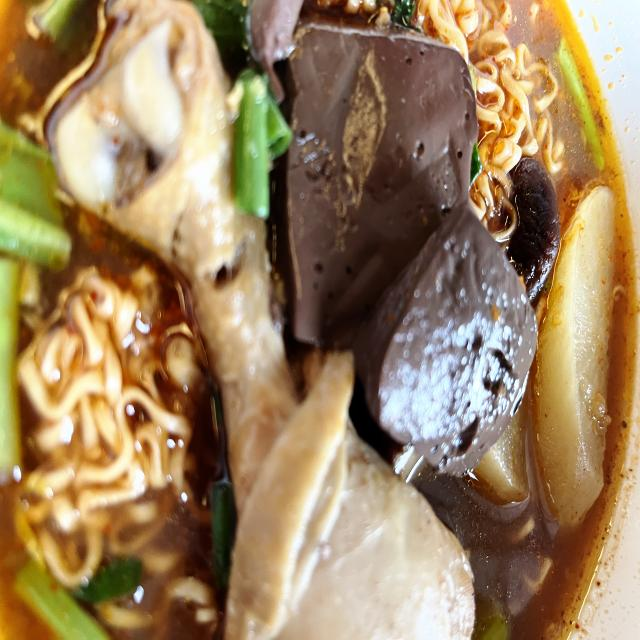boiled_chicken_blood_jelly: (287, 21, 465, 346), (397, 223, 513, 435)
chicken_drumstick: (47, 0, 474, 640)
daikon_radish: (534, 181, 618, 522)
noodle: (0, 0, 640, 640)
